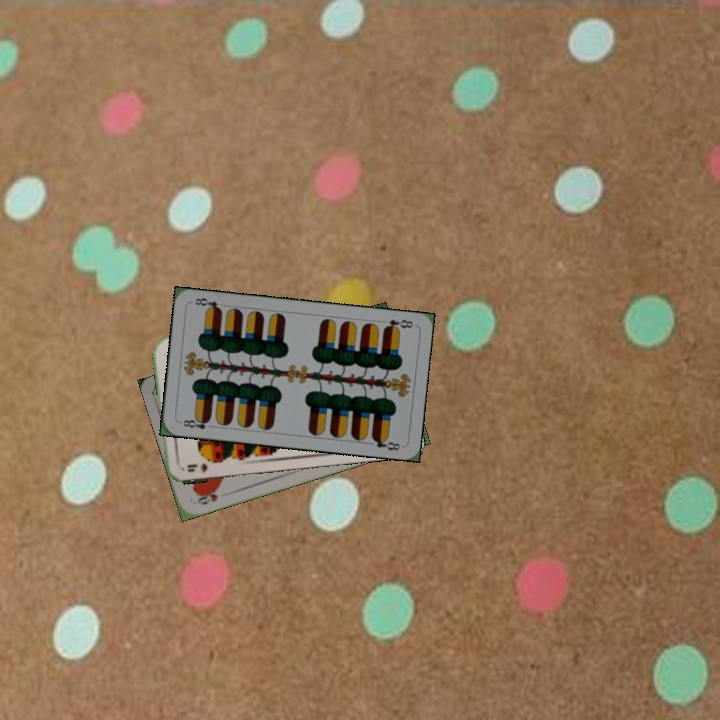E8: (176, 414, 217, 432), (379, 315, 416, 333)
HO: (191, 485, 221, 508)
S9: (183, 456, 220, 475)
